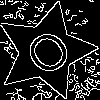O: (21, 26, 82, 86)
